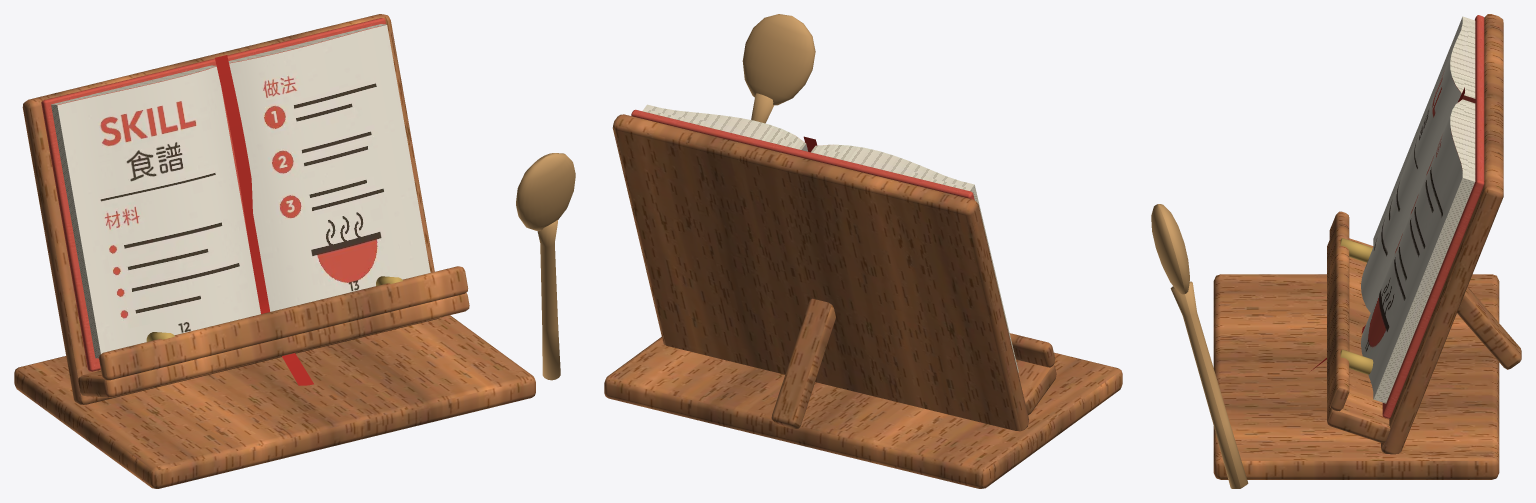
The model's file is keep_cookbook.glb.
The picture shows the model from 3 angles, left to right: view 1: azimuth 30°, elevation 25°; view 2: azimuth 150°, elevation 25°; view 3: azimuth 270°, elevation 25°; orthographic projection.
Parts seen in each view (by area): view 1: cb_base, cb_page_l, cb_page_r, cb_lip, cb_board, cb_ledge, cb_cover, cb_ribbon, cb_spoon_bowl, cb_spoon_handle, cb_edge_l, cb_head_l; view 2: cb_board, cb_base, cb_spoon_bowl, cb_strut, cb_cover, cb_head_l, cb_head_r, cb_ledge, cb_lip; view 3: cb_base, cb_board, cb_page_r, cb_page_l, cb_ledge, cb_cover, cb_lip, cb_spoon_handle, cb_edge_r, cb_strut, cb_spoon_bowl, cb_head_r (+3 smaller).
Boxes of the visible parts, left/top/right/bottom form: cb_base: left=14, top=315, right=535, bottom=488; cb_page_l: left=57, top=66, right=260, bottom=353; cb_page_r: left=229, top=25, right=430, bottom=311; cb_lip: left=99, top=266, right=468, bottom=380; cb_board: left=22, top=14, right=438, bottom=404; cb_ledge: left=78, top=292, right=469, bottom=397; cb_cover: left=41, top=18, right=385, bottom=371; cb_ribbon: left=215, top=55, right=313, bottom=385; cb_spoon_bowl: left=516, top=153, right=575, bottom=231; cb_spoon_handle: left=537, top=220, right=560, bottom=380; cb_edge_l: left=51, top=104, right=100, bottom=358; cb_head_l: left=51, top=65, right=216, bottom=104; cb_board: left=612, top=114, right=1028, bottom=431; cb_base: left=604, top=337, right=1122, bottom=488; cb_spoon_bowl: left=742, top=14, right=815, bottom=105; cb_strut: left=771, top=298, right=835, bottom=428; cb_cover: left=631, top=109, right=974, bottom=200; cb_head_l: left=811, top=144, right=974, bottom=190; cb_head_r: left=642, top=104, right=805, bottom=149; cb_ledge: left=1016, top=359, right=1056, bottom=415; cb_lip: left=1009, top=333, right=1055, bottom=367; cb_base: left=1213, top=274, right=1499, bottom=479; cb_board: left=1381, top=14, right=1503, bottom=454; cb_page_r: left=1361, top=111, right=1462, bottom=399; cb_page_l: left=1361, top=17, right=1462, bottom=312; cb_ledge: left=1327, top=238, right=1390, bottom=442; cb_cover: left=1382, top=15, right=1484, bottom=418; cb_lip: left=1329, top=211, right=1349, bottom=411; cb_spoon_handle: left=1170, top=281, right=1248, bottom=488; cb_edge_r: left=1373, top=178, right=1474, bottom=403; cb_strut: left=1457, top=287, right=1521, bottom=369; cb_spoon_bowl: left=1151, top=204, right=1189, bottom=294; cb_head_r: left=1450, top=99, right=1475, bottom=181.
Bounding box in the file's own units: 0.2717 × 0.1848 × 0.2077.
8 materials, 5 textured.
